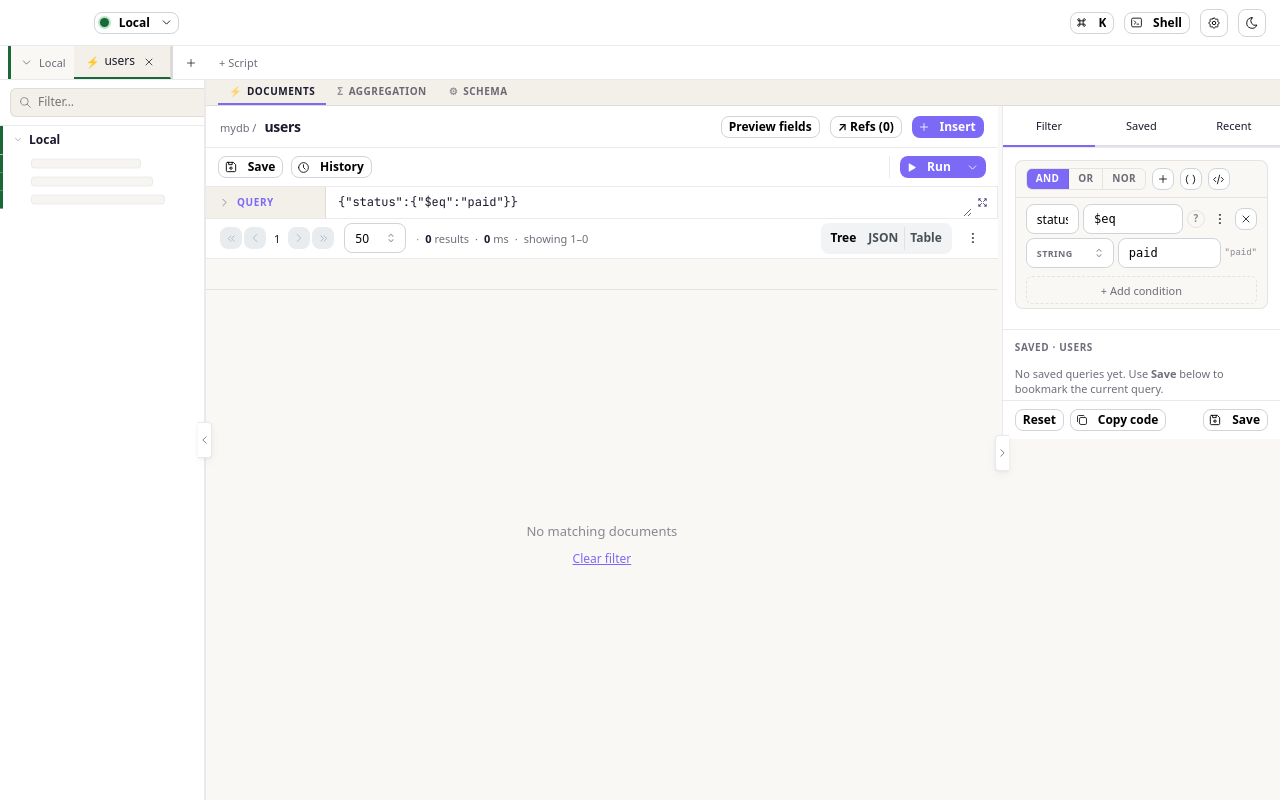
W15 §13.1 — Reset confirms before wiping the tree › wipes the filter once confirmed
The width and height of the screenshot is (1280, 800).
What coordinates should you click on to do the following:
click the button "Reset"
I would click on:
 (1039, 420)
Its box is top-left (1015, 409), bottom-right (1064, 431).
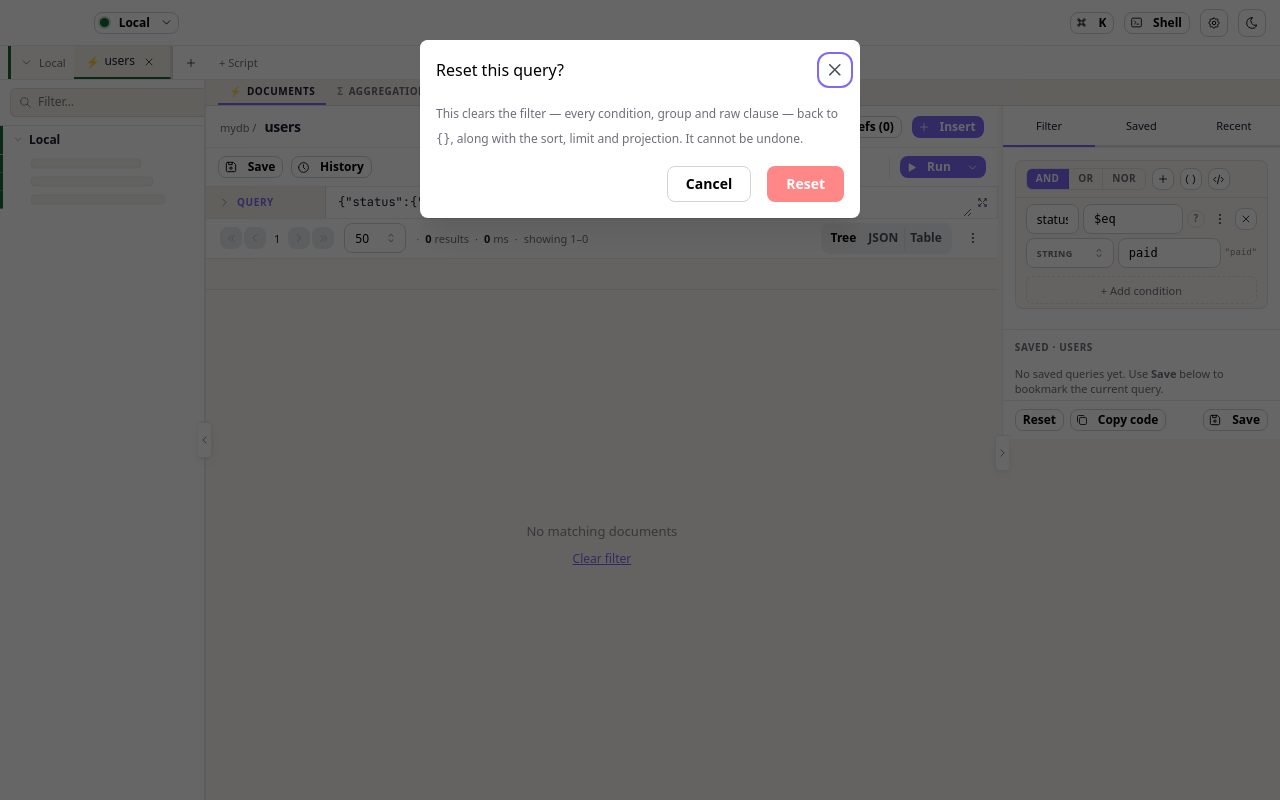
What coordinates should you click on to do the following:
click the button "Reset"
I would click on:
 (806, 184)
Its box is top-left (767, 166), bottom-right (844, 202).
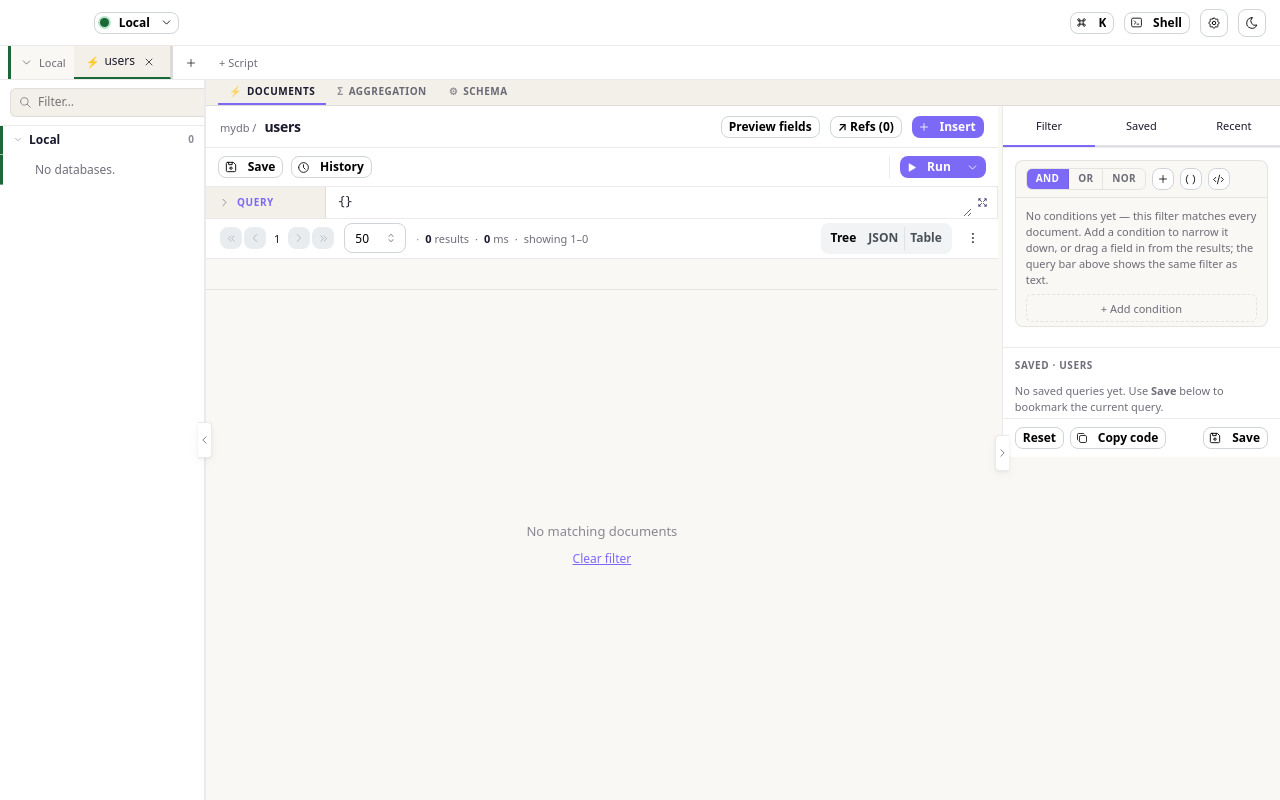
Check: the text box with test id "query-bar-input" holds "{}", box top-left (330, 187), bottom-right (972, 218)
